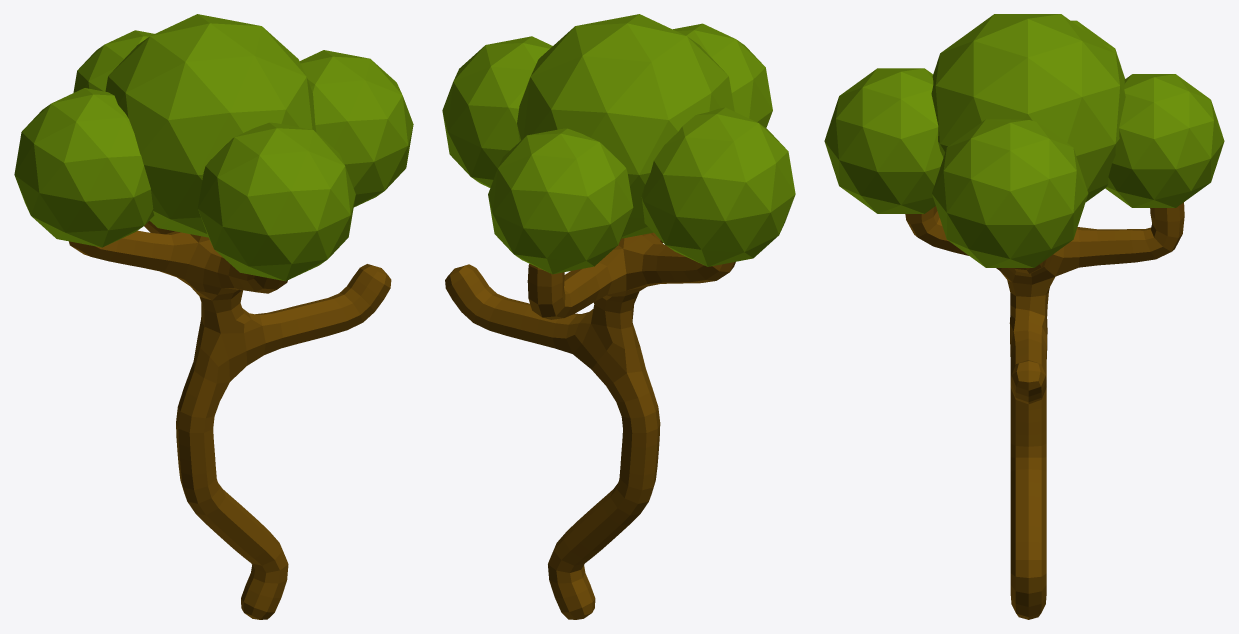
File: tree.fbx
The picture shows the model from 3 angles, left to right: view 1: azimuth 30°, elevation 25°; view 2: azimuth 150°, elevation 25°; view 3: azimuth 270°, elevation 25°; orthographic projection. The views are drawn at different scales.
Parts seen in each view (by area): view 1: Plane, Icosphere.001, Icosphere.003, Icosphere.004, Icosphere, Icosphere.002; view 2: Plane, Icosphere.001, Icosphere.004, Icosphere.002, Icosphere, Icosphere.003; view 3: Icosphere.001, Plane, Icosphere, Icosphere.003, Icosphere.002.
Boxes of the visible parts, bbox=[...] form: Plane: bbox=[69, 221, 391, 619]; Icosphere.001: bbox=[105, 14, 316, 237]; Icosphere.003: bbox=[197, 122, 355, 281]; Icosphere.004: bbox=[14, 88, 154, 247]; Icosphere: bbox=[299, 50, 413, 207]; Icosphere.002: bbox=[73, 30, 154, 92]; Plane: bbox=[445, 232, 735, 619]; Icosphere.001: bbox=[517, 14, 734, 238]; Icosphere.004: bbox=[641, 107, 795, 266]; Icosphere.002: bbox=[488, 128, 633, 274]; Icosphere: bbox=[442, 36, 552, 187]; Icosphere.003: bbox=[673, 23, 772, 127]; Icosphere.001: bbox=[931, 14, 1125, 201]; Plane: bbox=[905, 202, 1184, 619]; Icosphere: bbox=[932, 119, 1088, 267]; Icosphere.003: bbox=[824, 68, 943, 213]; Icosphere.002: bbox=[1105, 74, 1224, 207].
Size of the model in its own units: 491 by 812 by 511.
